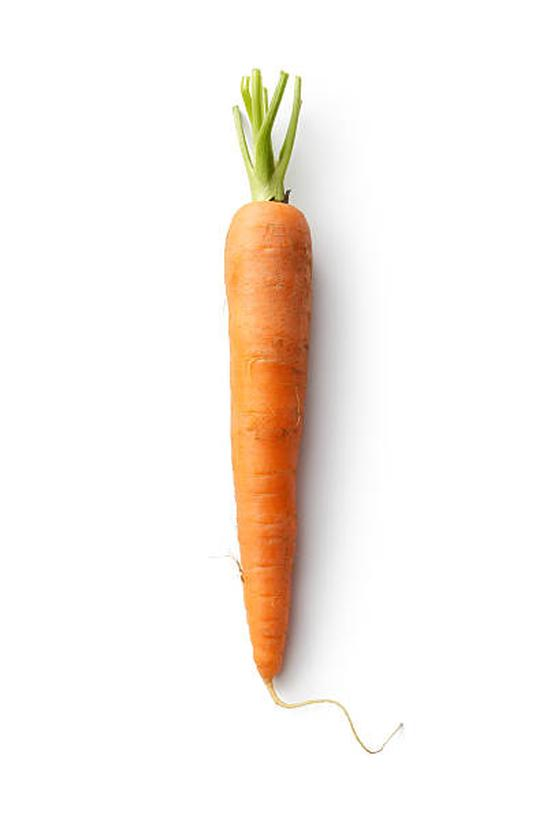carrot: (224, 188, 314, 684)
